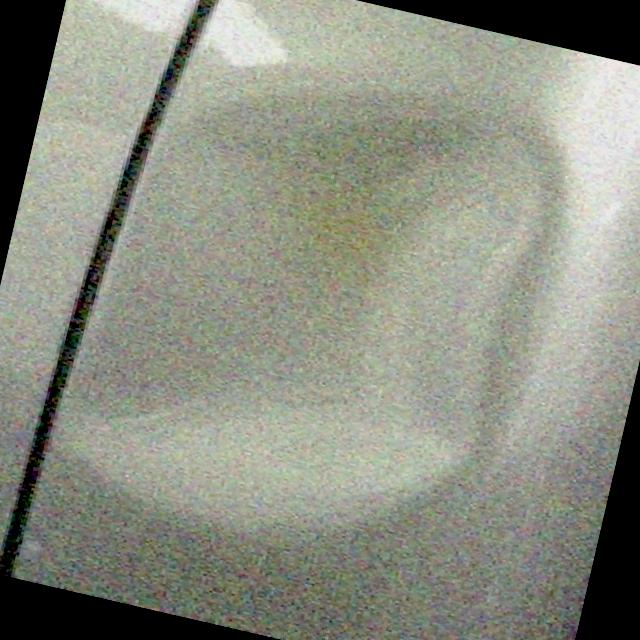dent: (38, 32, 560, 583)
